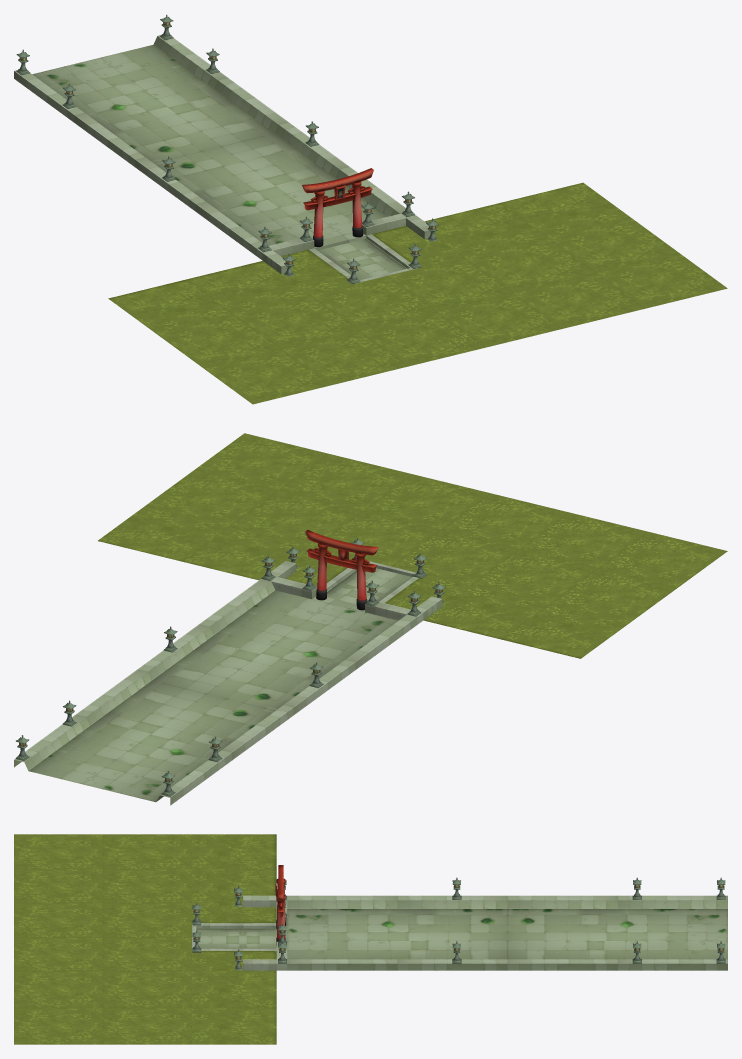
The model's file is Ninja_Env_Mesh.fbx.
The picture shows the model from 3 angles, top to bottom: view 1: azimuth 30°, elevation 25°; view 2: azimuth 150°, elevation 25°; view 3: azimuth 270°, elevation 25°; orthographic projection. The views are drawn at different scales.
Visible parts, largest first — view 1: Ninja_Env; view 2: Ninja_Env; view 3: Ninja_Env.
Boxes of the visible parts, <box> form: Ninja_Env: <box>14,14,727,404</box>; Ninja_Env: <box>14,433,727,805</box>; Ninja_Env: <box>14,834,727,1044</box>.
Bounding box in the file's own units: 30.28 × 4 × 43.44.
